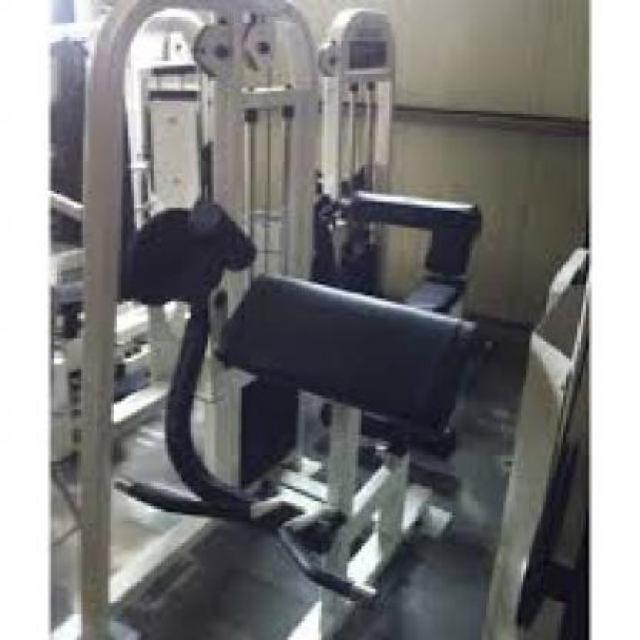arm curl machine: (80, 0, 482, 640)
